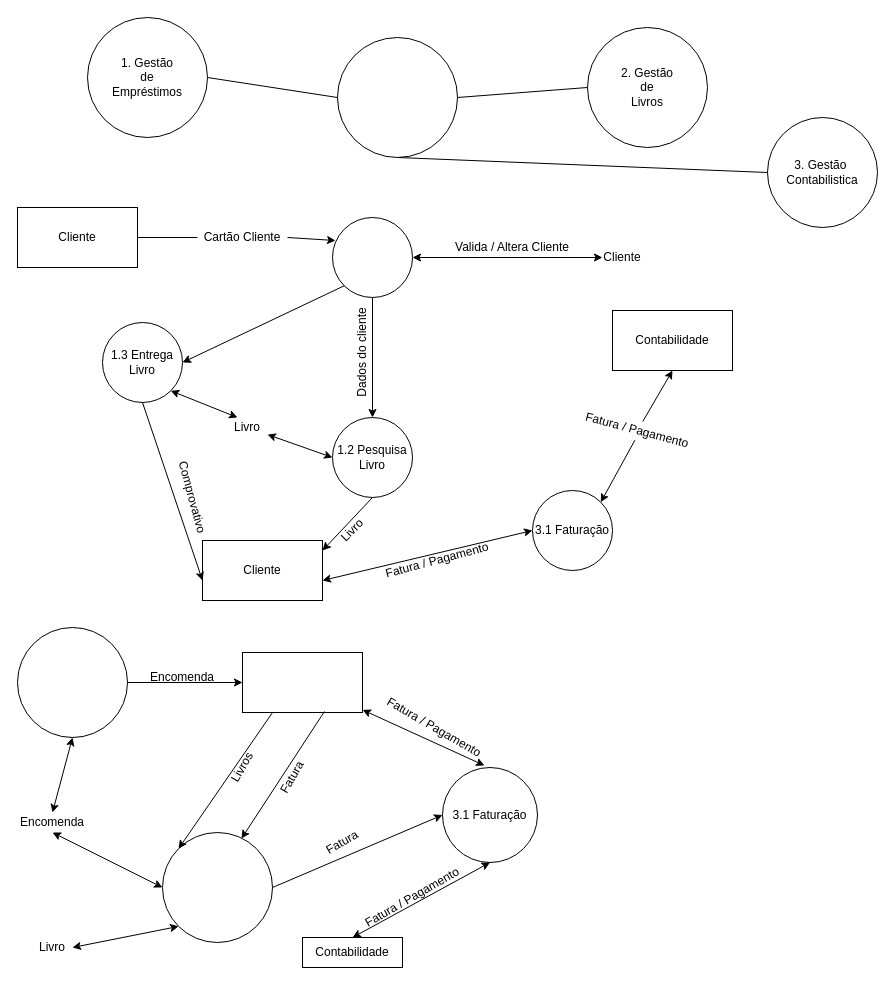
Image size: 895x985. Some labels were removed from this diagram. Here are the shapes that lost their labels. From the top down, the centre of each, then its label:
At point (397, 97): "Gestão da Biblioteca".
At point (372, 257): "1.1 Receção Cliente".
At point (72, 682): "2.1 Realização Encomendas".
At point (302, 682): "Editora".
At point (217, 887): "2.2 Receção Encomenda".
